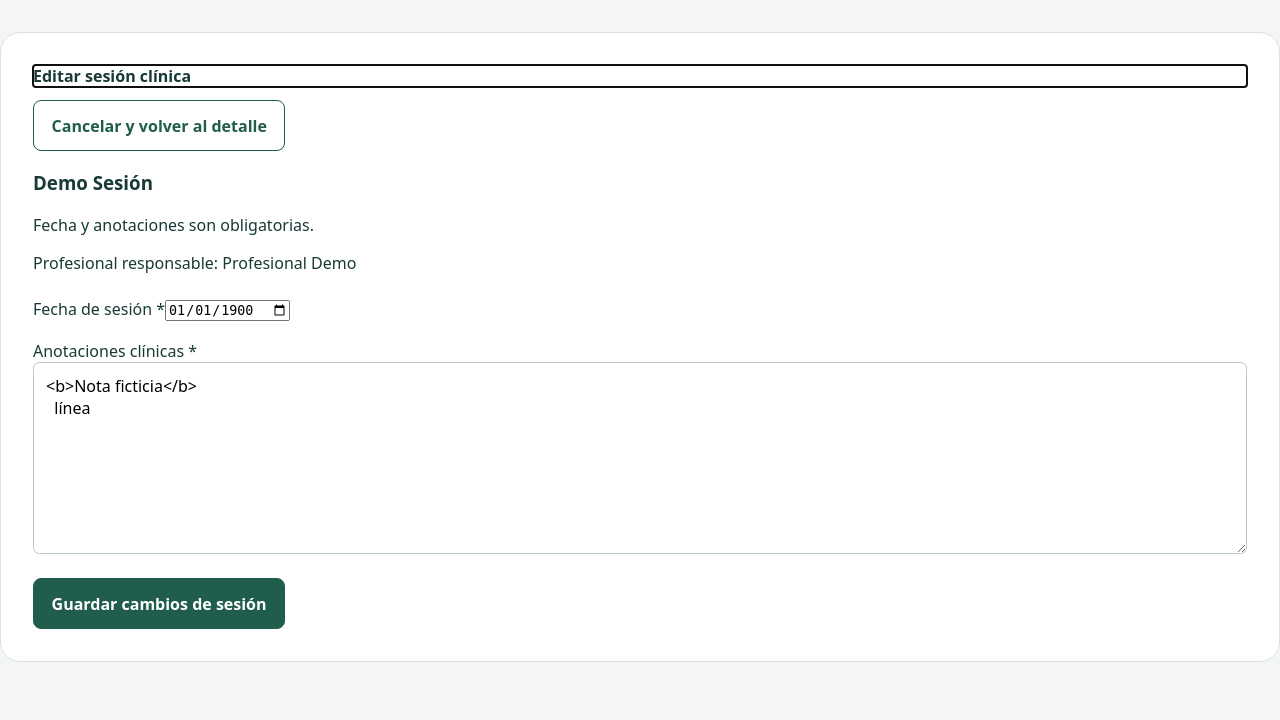
Test: respuesta invalid conserva borrador y no inventa éxito
The width and height of the screenshot is (1280, 720).
Check: the date field labelled "Fecha de sesión *" is shown, box [165,300,290,321]
Replace the text in the text box labelled "Anotaciones clínicas *" with "Borrador ficticio" at (640, 458), box [33,362,1247,554]
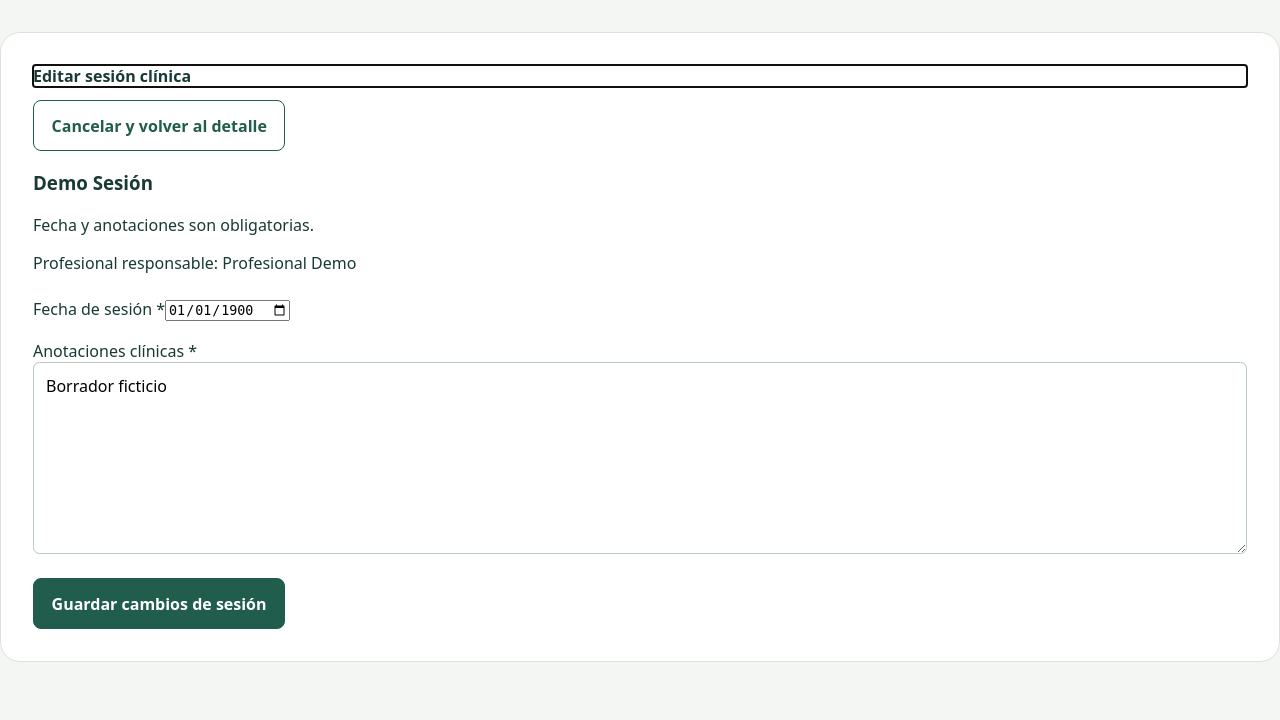
Click the button "Guardar cambios de sesión" at (159, 604), box [33,578,285,630]
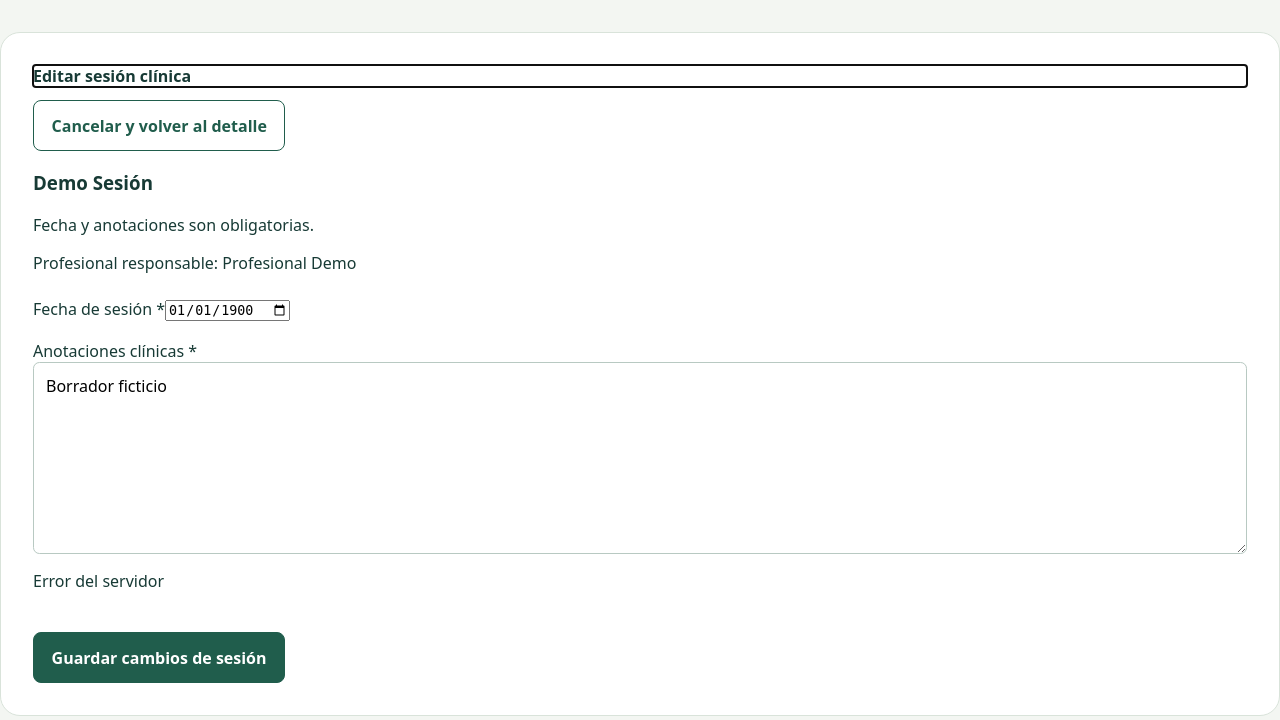
Check: the button "Cancelar y volver al detalle" is enabled, box [33,100,286,152]
Check: the text "Error del servidor" is shown, box [33,570,164,592]
